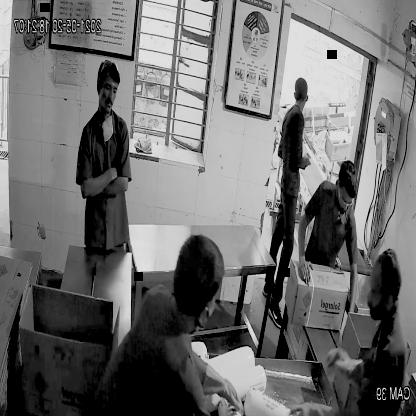no_goggles: (99, 78, 120, 97)
